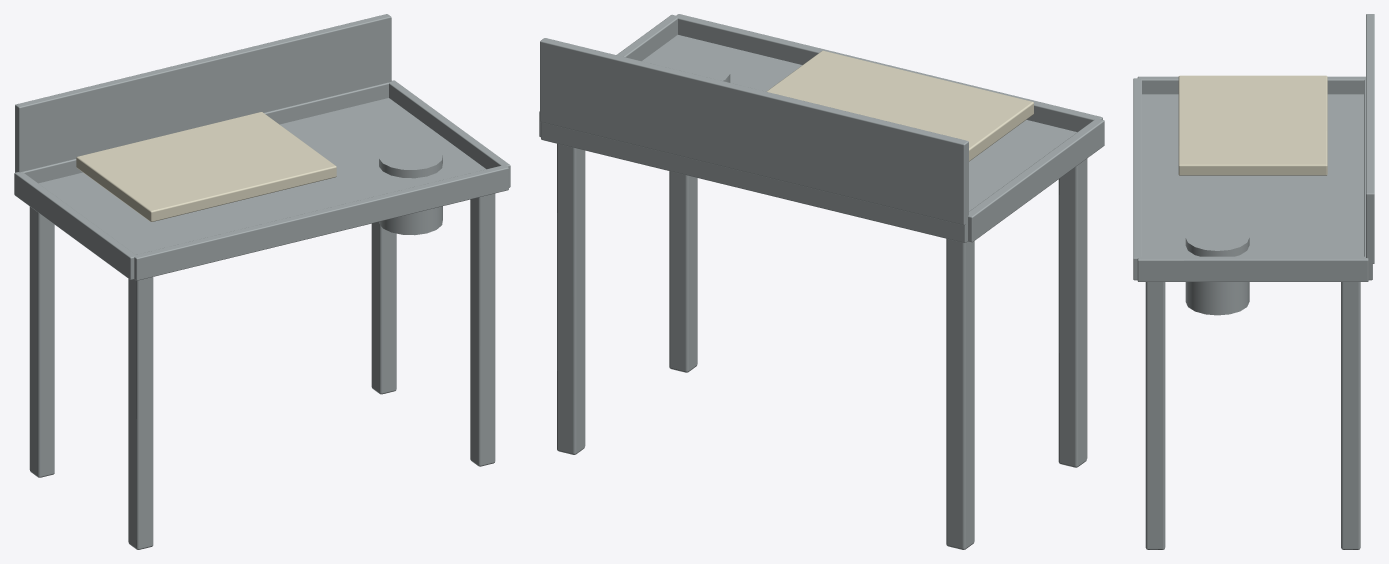
File: flooded-and-coastal-survival-fish-cleaning-table-8b8c838d__20073.glb
3 views of the same model, side by side, from view 1: azimuth 30°, elevation 25°; view 2: azimuth 150°, elevation 25°; view 3: azimuth 270°, elevation 25° (orthographic). The views are drawn at different scales.
Parts seen in each view (by area): view 1: fish-cleaning-table; view 2: fish-cleaning-table; view 3: fish-cleaning-table.
Part boxes in pixels (box(x1,y1,x2,y2)): fish-cleaning-table: box(14, 14, 510, 549); fish-cleaning-table: box(539, 14, 1104, 549); fish-cleaning-table: box(1133, 14, 1374, 549).
Bounding box in the file's own units: 1.23 × 1.12 × 0.68.
